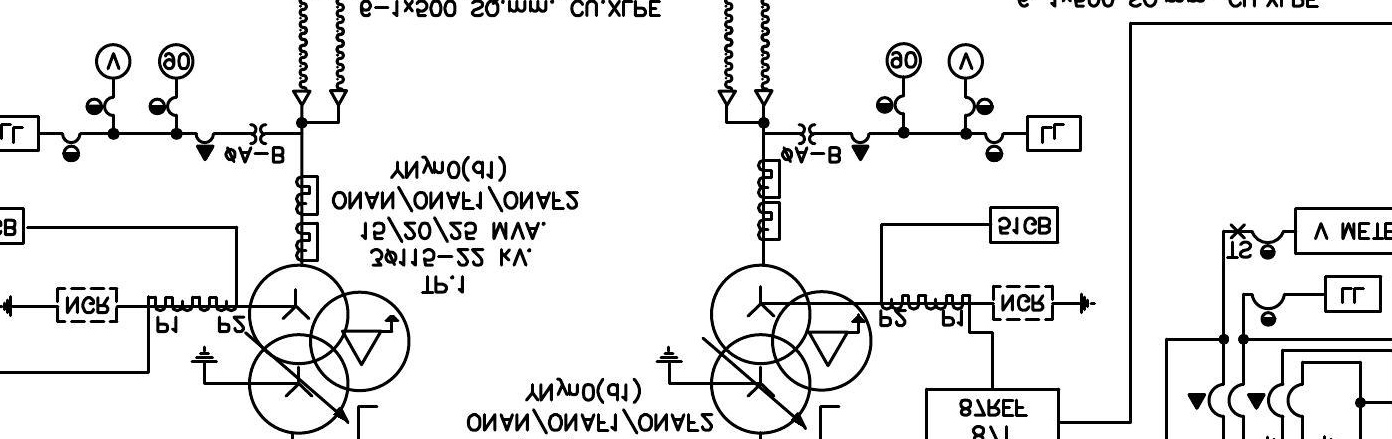11522_tx_ynyn0d1: (247, 262, 412, 436), (709, 262, 874, 436)
LL: (1323, 274, 1383, 314), (1025, 115, 1083, 152)
NGR_future: (991, 284, 1097, 321)
terminator_double: (291, 89, 349, 125), (717, 89, 774, 125)
v_m: (946, 42, 985, 81), (94, 42, 132, 81)
